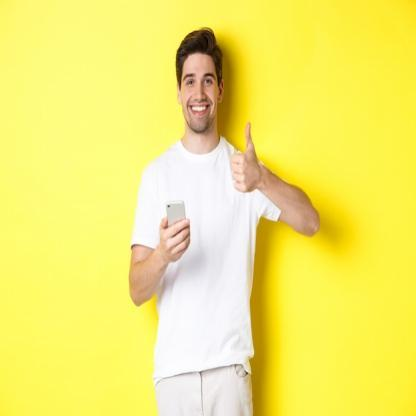thumb_up: (228, 119, 262, 197)
